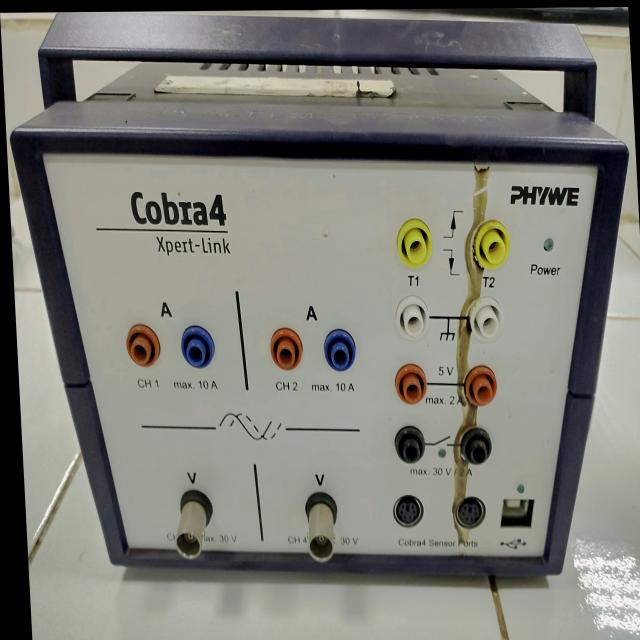Cobra 4 Xpert link Power Supply: (4, 34, 640, 596)
